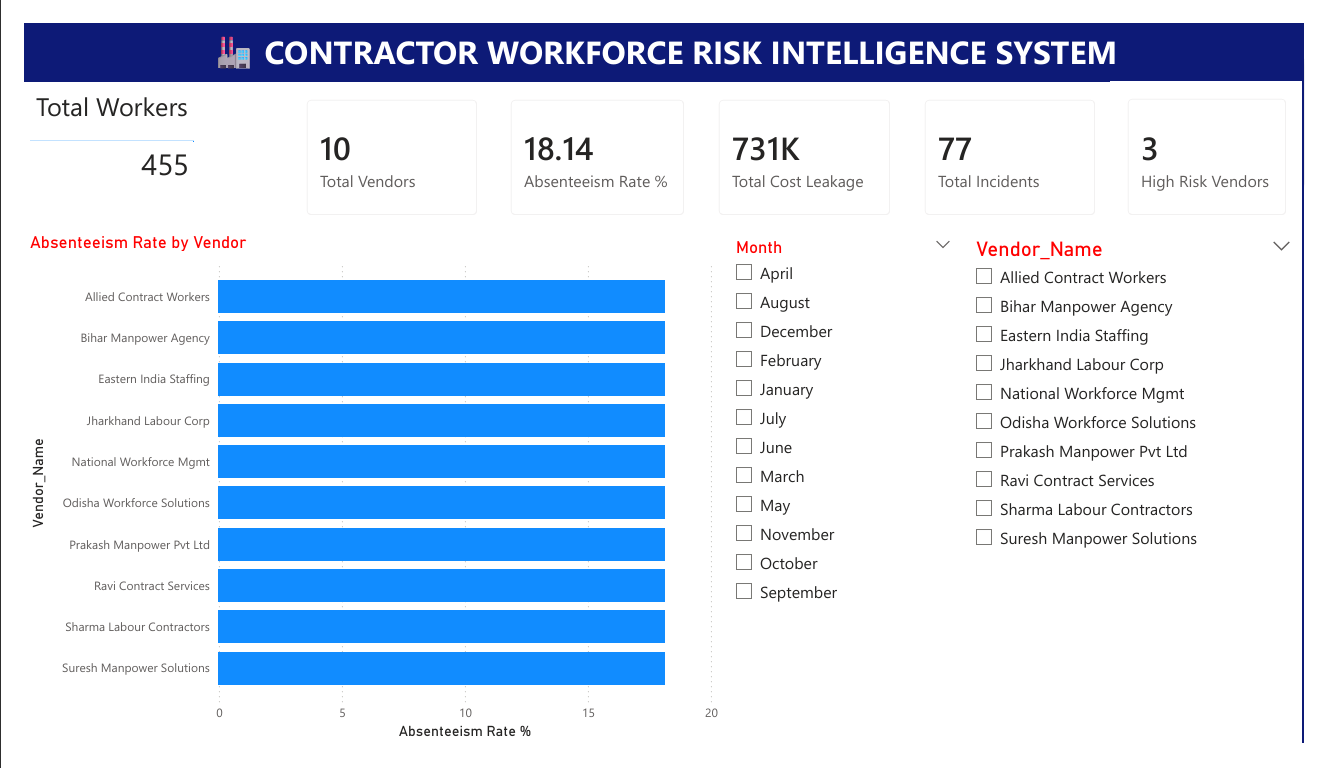

This screenshot's page, from the dashboard's own definition file:
{"tool":"powerbi","page":{"name":"Executive Summary","canvas":[1280,720],"ordinal":0},"visuals":[{"type":"textbox","box":[0,0,1279.4,58.6],"z":0},{"type":"tableEx","title":"Total Workers","fields":{"Values":["contractor_workforce_risk attendance_log.Total Workers"]},"box":[0,58.6,264.6,149.3],"z":1000},{"type":"cardVisual","fields":{"Data":["contractor_workforce_risk attendance_log.Total Vendors"]},"box":[264.6,58.6,204.1,149.3],"z":2000},{"type":"cardVisual","fields":{"Data":["contractor_workforce_risk attendance_log.Absenteeism Rate %"]},"box":[468.7,58.6,207.9,149.3],"z":3000},{"type":"cardVisual","fields":{"Data":["contractor_workforce_risk attendance_log.Total Cost Leakage"]},"box":[676.5,58.6,206,149.3],"z":4000},{"type":"cardVisual","fields":{"Data":["contractor_workforce_risk attendance_log.Total Incidents"]},"box":[882.5,58.6,204.1,149.3],"z":5000},{"type":"cardVisual","fields":{"Data":["contractor_workforce_risk attendance_log.High Risk Vendors"]},"box":[1086,58,192,150],"z":6000},{"type":"clusteredBarChart","title":"Absenteeism Rate by Vendor","fields":{"Category":["contractor_workforce_risk vendor_master.Vendor_Name"],"Y":["contractor_workforce_risk attendance_log.Absenteeism Rate %"]},"box":[0,208,698,512],"z":7000},{"type":"slicer","fields":{"Values":["contractor_workforce_risk attendance_log.Month"]},"box":[698,208,240,512],"z":8000},{"type":"slicer","fields":{"Values":["contractor_workforce_risk vendor_master.Vendor_Name"]},"box":[938,208,340,512],"z":9000}]}

Visuals, with their boxes in screenshot pixels (x1, y1, x2, y2), scaled from the page's 1280x720 canvas onto the 1328x768 screenshot:
textbox: detection(0, 0, 1327, 63)
"Total Workers" tableEx: detection(0, 63, 275, 222)
cardVisual - contractor_workforce_risk attendance_log.Total Vendors: detection(275, 63, 486, 222)
cardVisual - contractor_workforce_risk attendance_log.Absenteeism Rate %: detection(486, 63, 702, 222)
cardVisual - contractor_workforce_risk attendance_log.Total Cost Leakage: detection(702, 63, 916, 222)
cardVisual - contractor_workforce_risk attendance_log.Total Incidents: detection(916, 63, 1127, 222)
cardVisual - contractor_workforce_risk attendance_log.High Risk Vendors: detection(1127, 62, 1326, 222)
"Absenteeism Rate by Vendor" clusteredBarChart: detection(0, 222, 724, 767)
slicer - contractor_workforce_risk attendance_log.Month: detection(724, 222, 973, 767)
slicer - contractor_workforce_risk vendor_master.Vendor_Name: detection(973, 222, 1326, 767)
